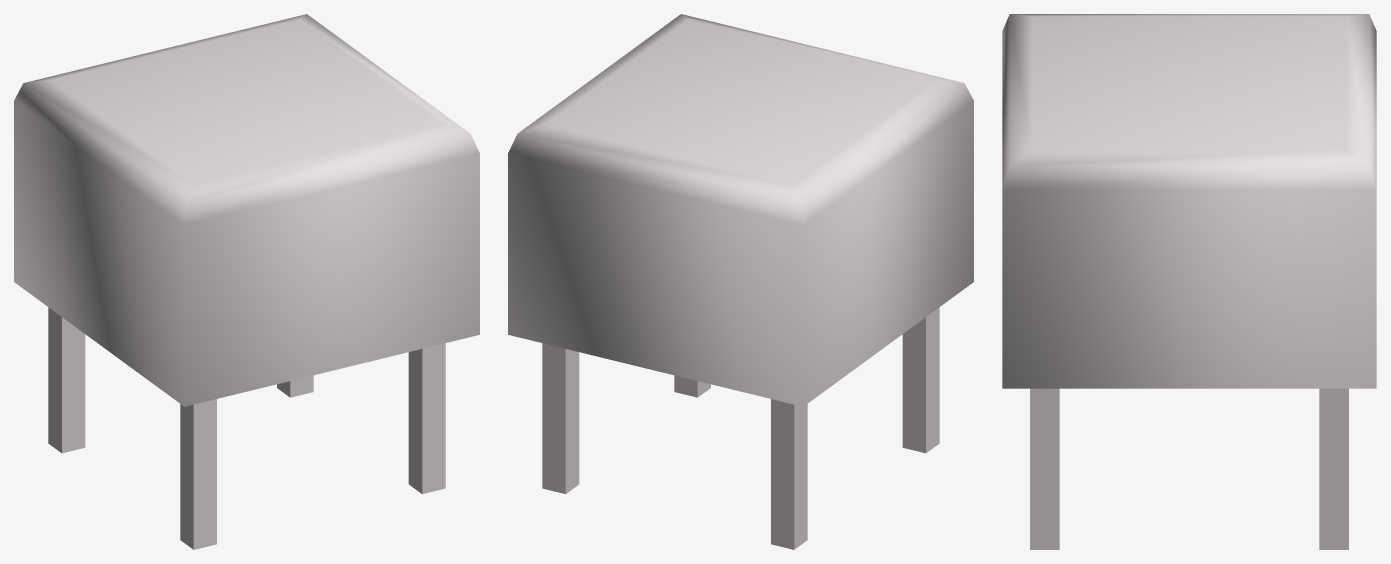
File: dressing chair.fbx
3 views of the same model, side by side, from view 1: azimuth 30°, elevation 25°; view 2: azimuth 150°, elevation 25°; view 3: azimuth 270°, elevation 25° (orthographic). The views are drawn at different scales.
Visible parts, largest first — view 1: dressing chair; view 2: dressing chair; view 3: dressing chair.
Part boxes in pixels (x1,y1,x2,y2): dressing chair: (14, 14, 479, 549); dressing chair: (508, 14, 973, 549); dressing chair: (1002, 14, 1376, 549).
Bounding box in the file's own units: 150 × 177 × 150.
